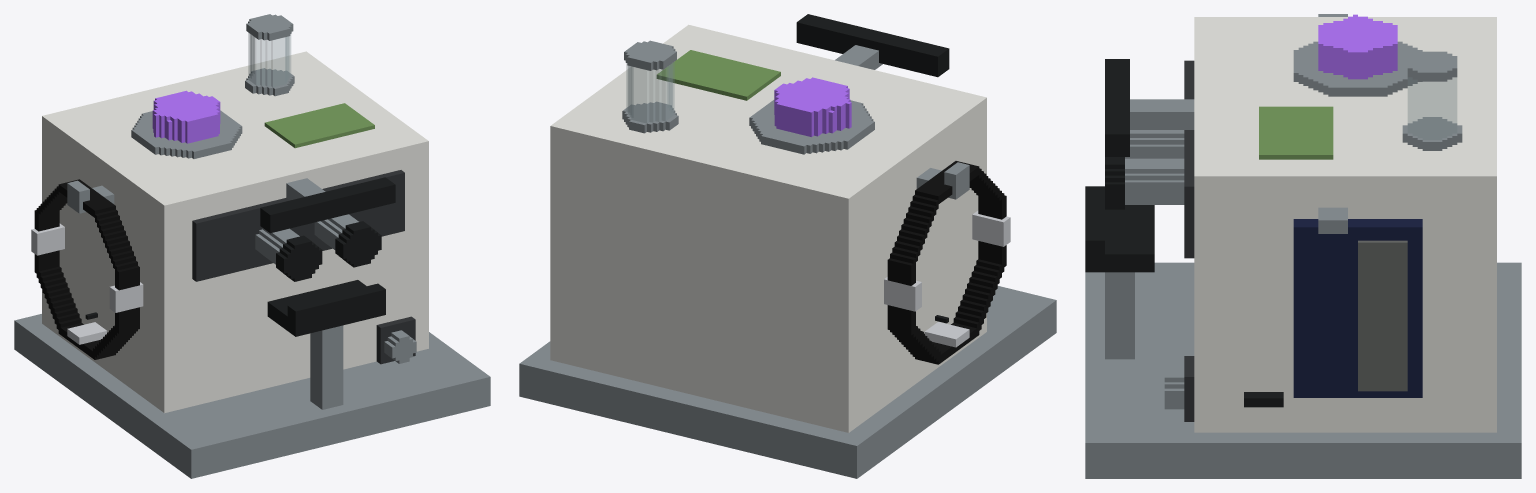
Rendered from psi_noetic_resonance_detector.glb.
The picture shows the model from 3 angles, left to right: view 1: azimuth 30°, elevation 25°; view 2: azimuth 150°, elevation 25°; view 3: azimuth 270°, elevation 25°; orthographic projection. The views are drawn at different scales.
Parts seen in each view (by area): view 1: psi_noetic_resonance_detector:compound; view 2: psi_noetic_resonance_detector:compound; view 3: psi_noetic_resonance_detector:compound.
Boxes of the visible parts, x1,y1,x2,y2 form: psi_noetic_resonance_detector:compound: [14, 14, 490, 478]; psi_noetic_resonance_detector:compound: [519, 14, 1056, 478]; psi_noetic_resonance_detector:compound: [1085, 14, 1521, 478].
Bounding box in the file's own units: 0.368 × 0.328 × 0.352.
